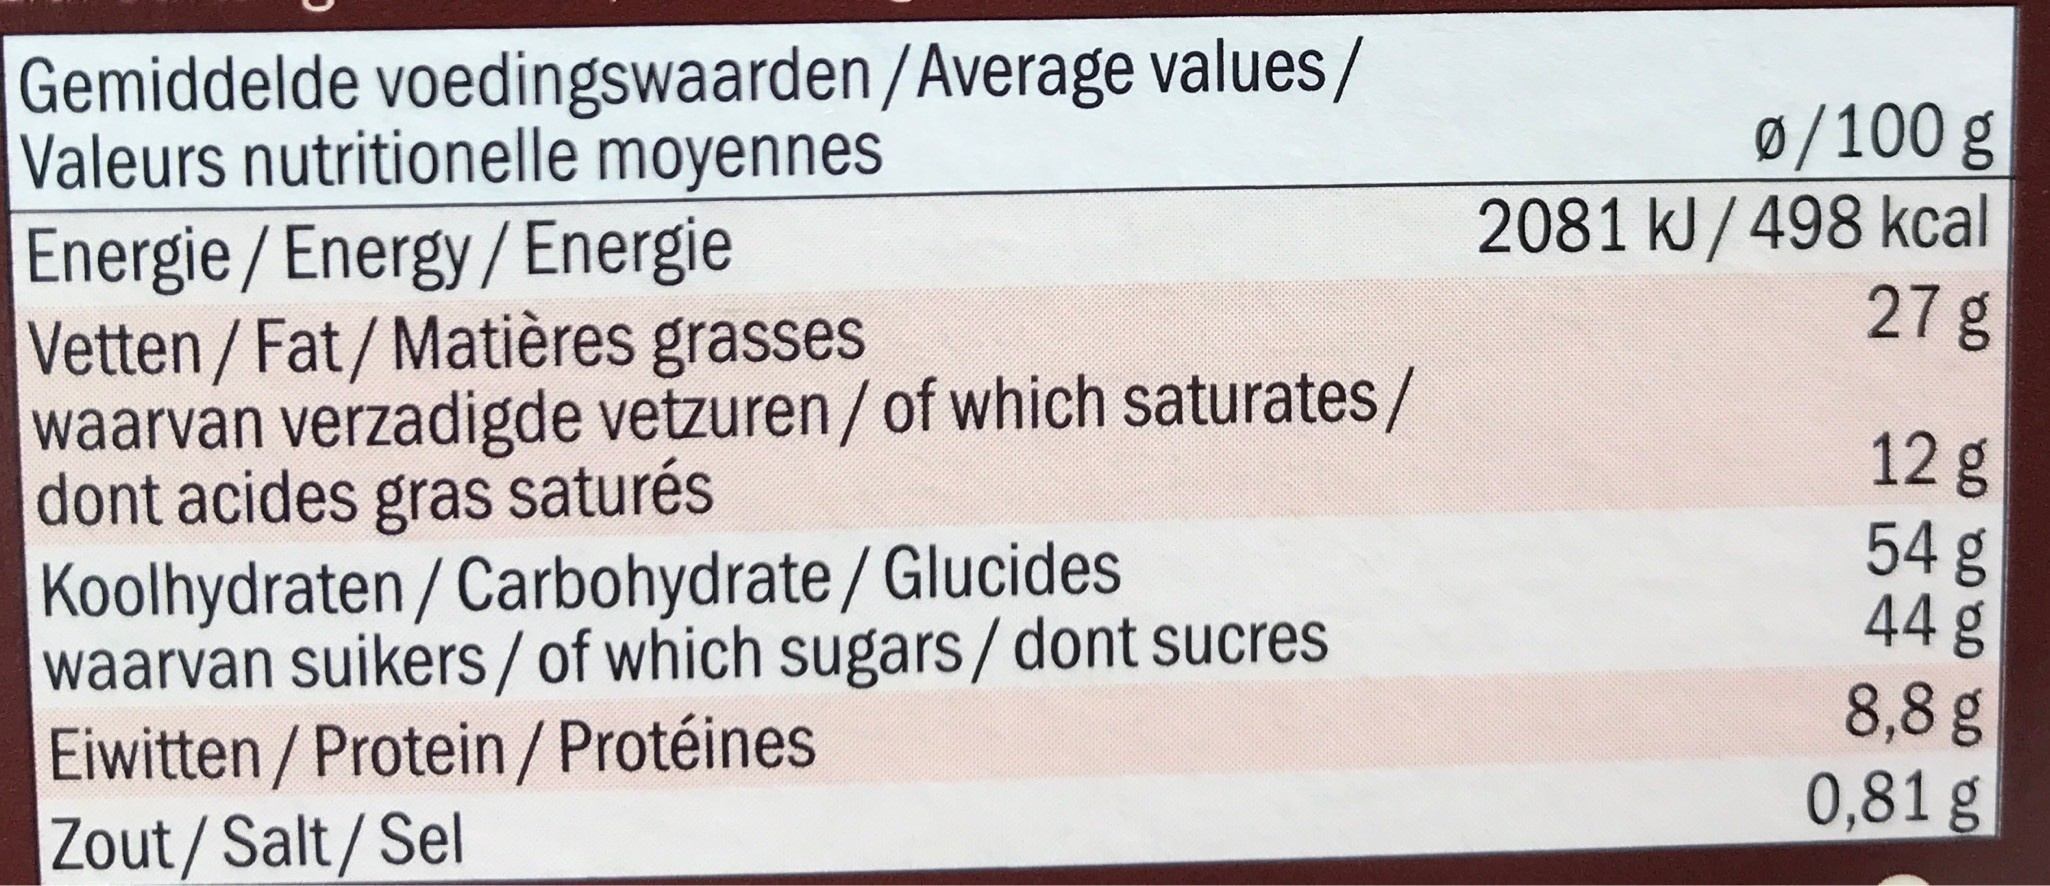column: (22, 16, 1416, 886), (1477, 14, 1998, 886)
table: (5, 5, 2019, 886)
